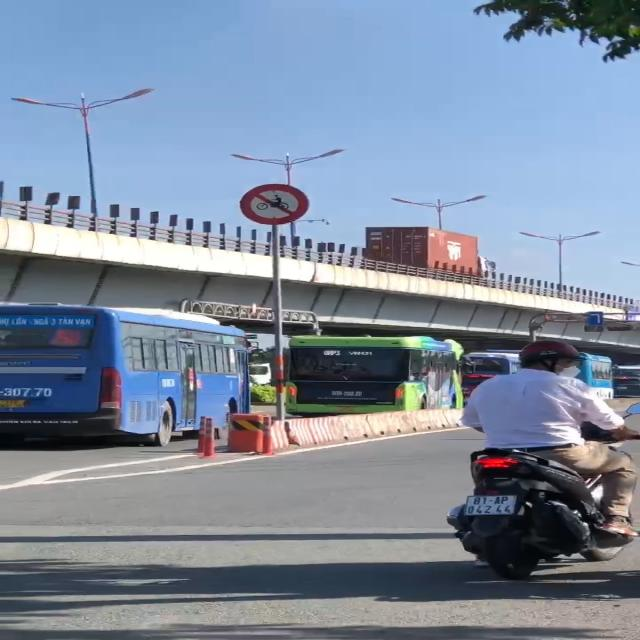Bien bao cam xe may: (236, 174, 321, 228)
